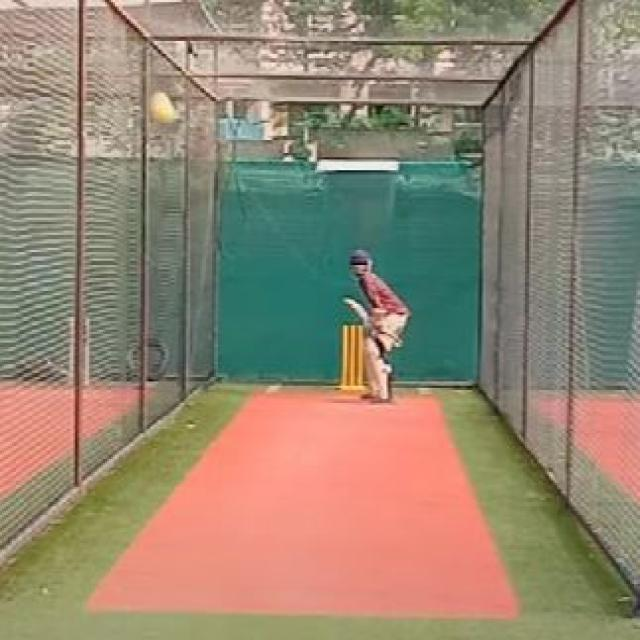ball: (139, 84, 182, 135)
